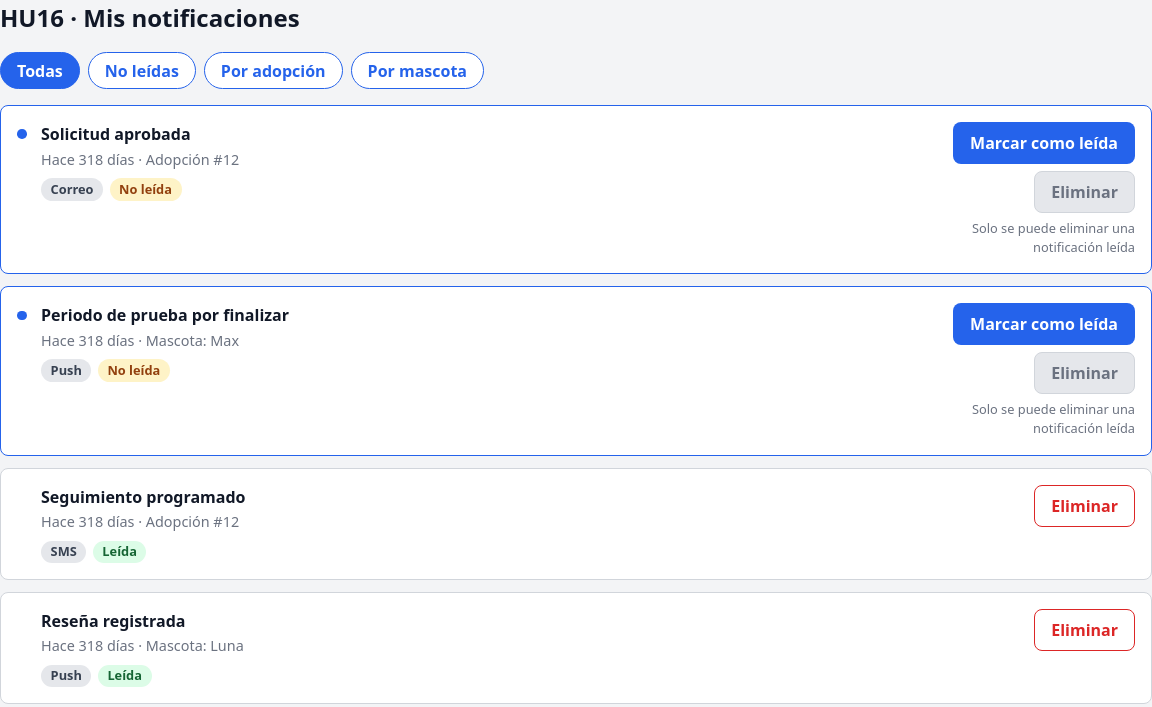
Scenario: NotificationsPage › shows the error when marking as read fails
The image size is (1152, 707).
Expected: the heading "HU16 · Mis notificaciones" is shown, [0,1,300,34]
Click the button with aria-label "Marcar como leída: Solicitud aprobada": (1044, 143) [953,122,1135,164]
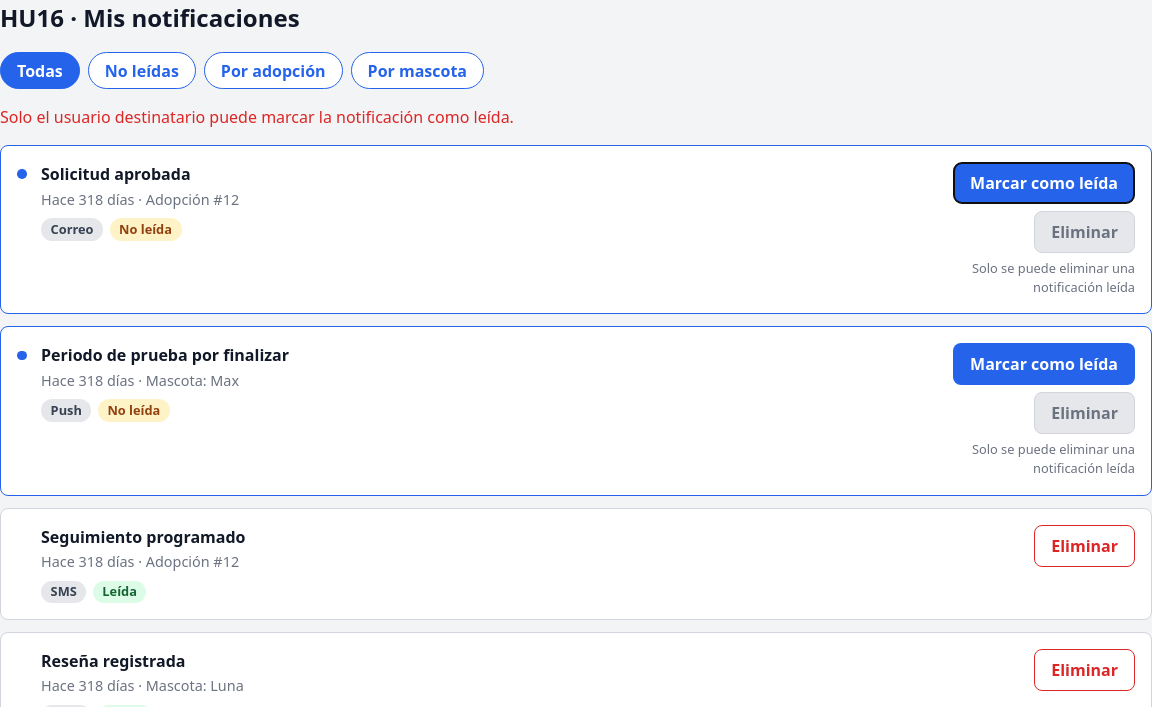
Result: the message reads "Solo el usuario destinatario puede marcar la notificación como leída." at [0,106,514,128]
